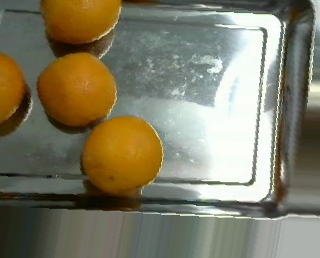Orange: (81, 113, 162, 194), (36, 51, 117, 125)
